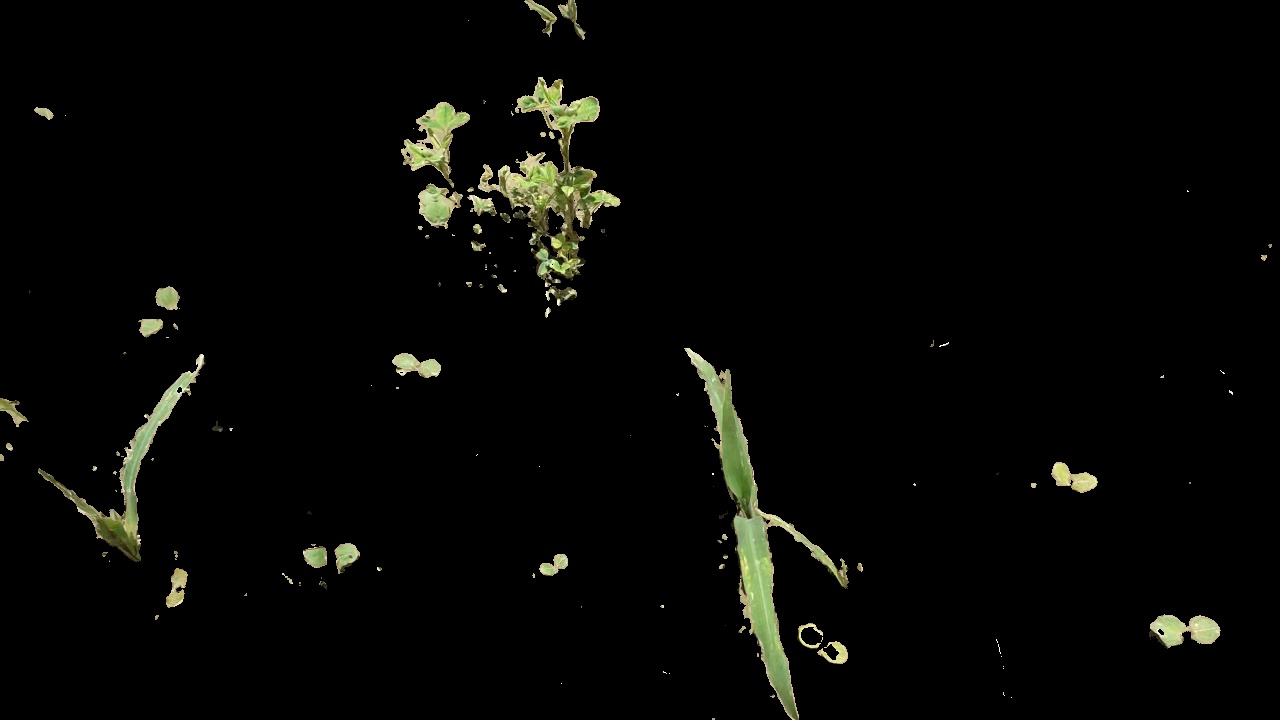crop: (36, 351, 214, 563)
weed: (400, 73, 616, 320), (1150, 599, 1221, 658), (521, 1, 594, 44), (136, 286, 184, 337), (799, 622, 850, 668), (1042, 458, 1103, 496), (300, 541, 364, 573), (390, 352, 443, 382), (166, 567, 197, 609), (539, 548, 570, 581)
